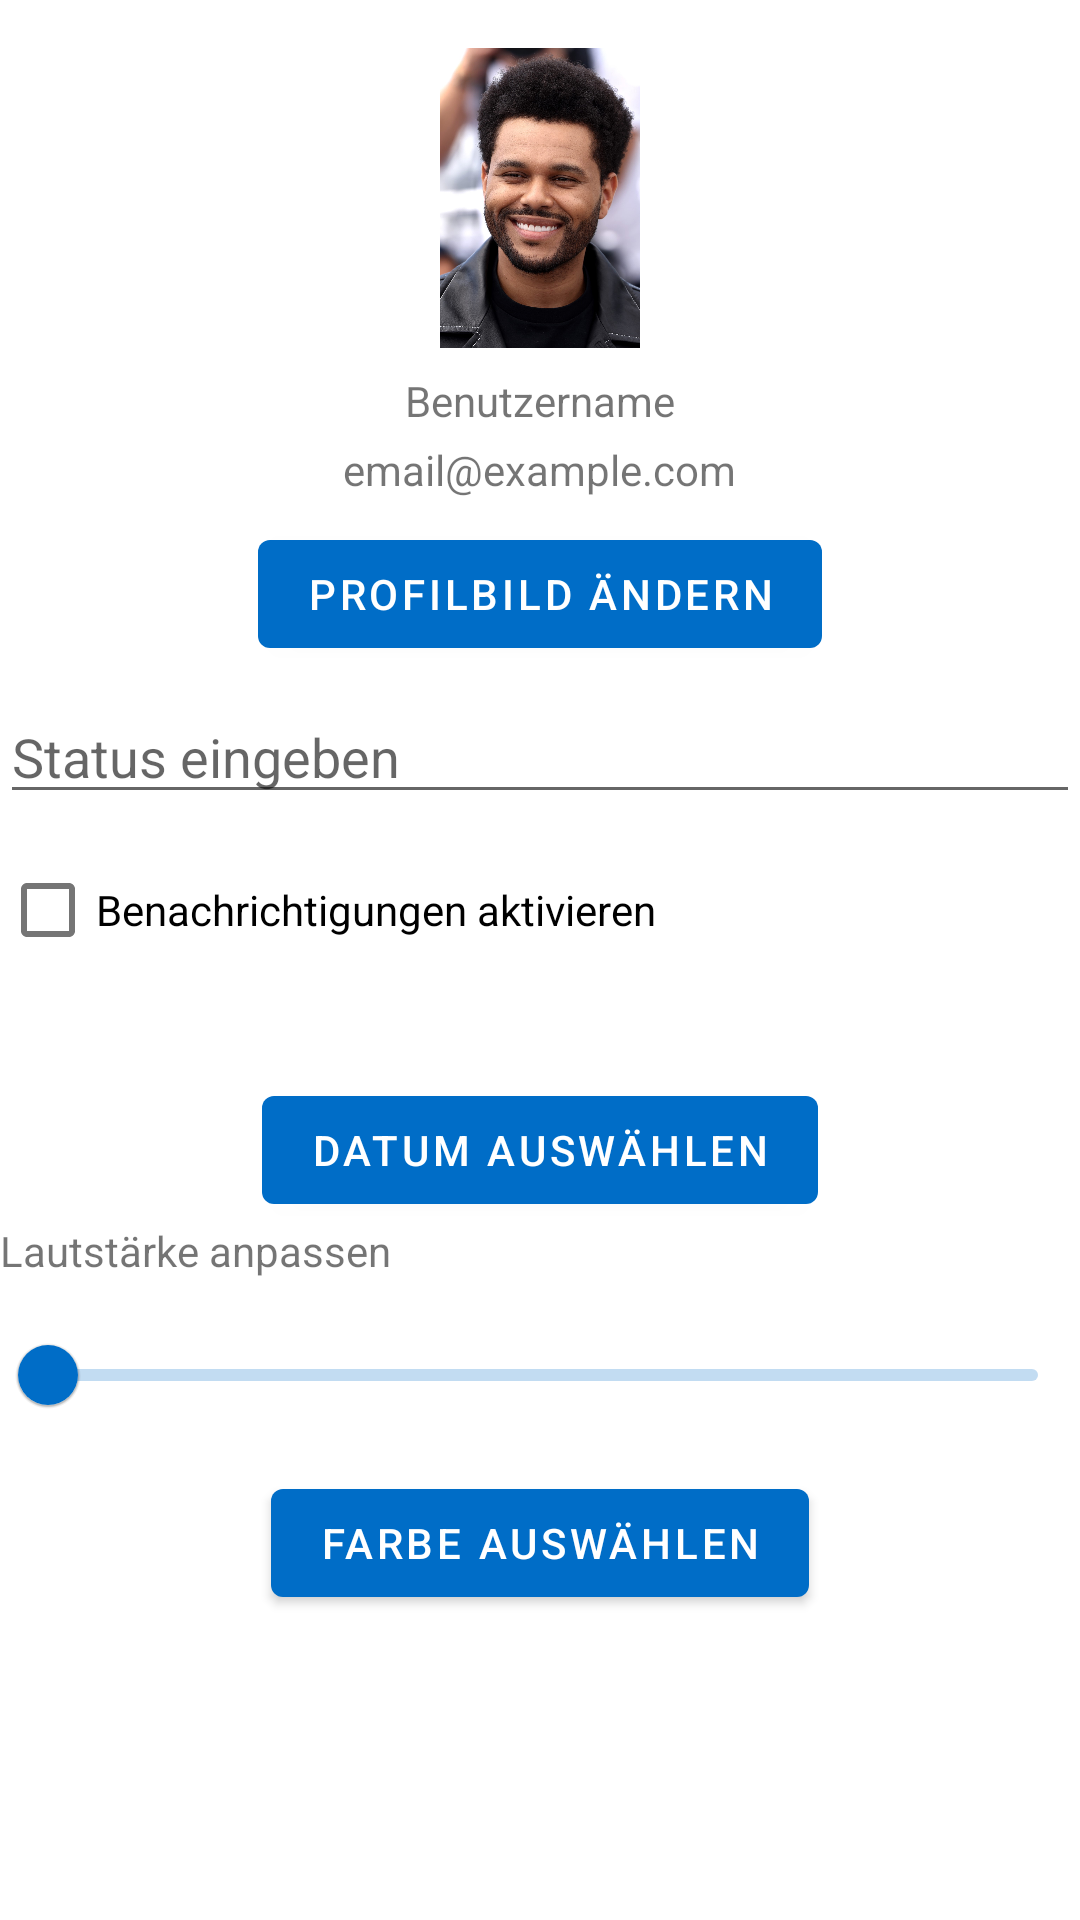

Icons on this 1080 × 1920 Android screen, each with the point to tap as [x,y]:
profile picture: [540,198]
